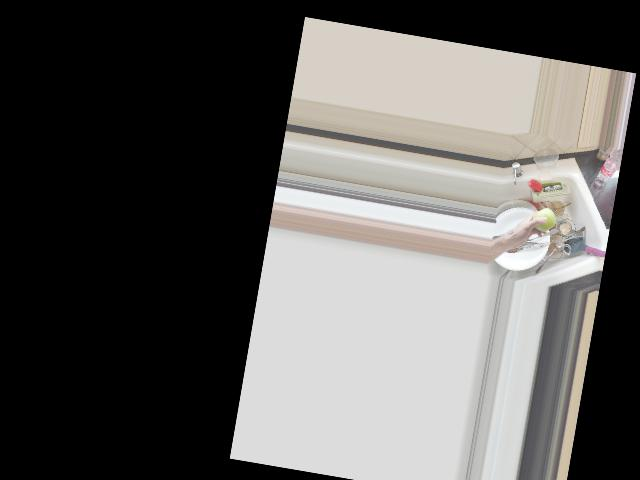apple: (528, 205, 557, 235)
